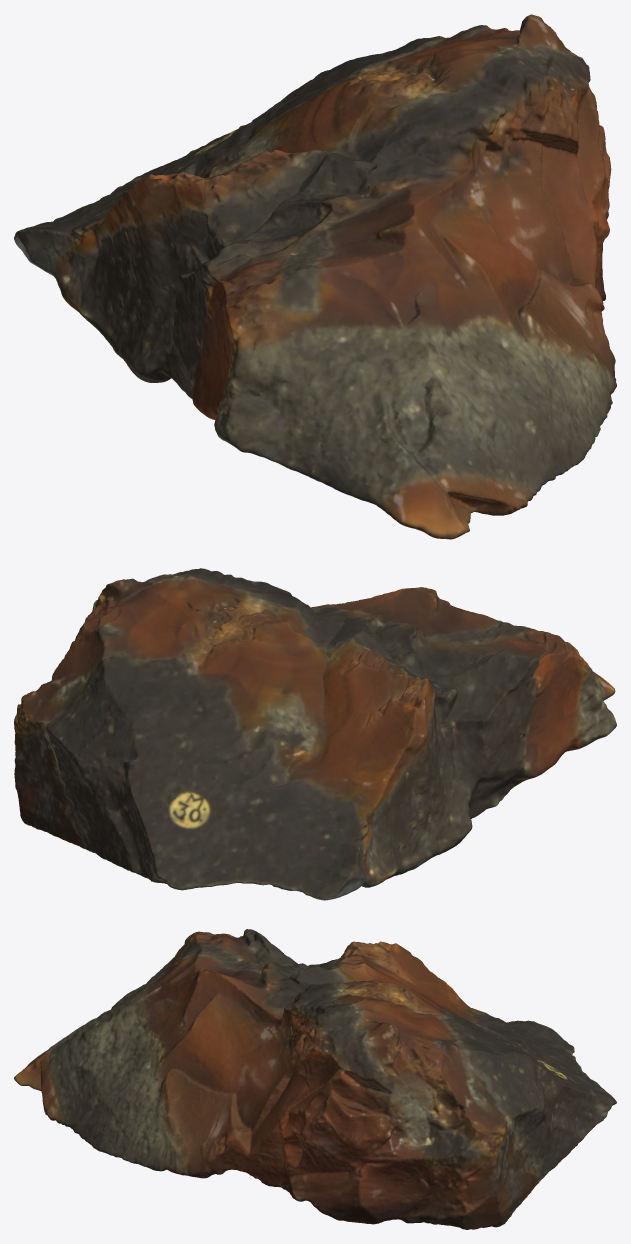
Rendered from red_opal.glb.
3 views of the same model, one above another, from view 1: azimuth 30°, elevation 25°; view 2: azimuth 150°, elevation 25°; view 3: azimuth 270°, elevation 25° (orthographic). The views are drawn at different scales.
Parts seen in each view (by area): view 1: Object_2; view 2: Object_2; view 3: Object_2.
Part boxes in pixels (x1,y1,x2,y2): Object_2: [14, 14, 616, 539]; Object_2: [14, 568, 616, 900]; Object_2: [14, 929, 616, 1229].
Bounding box in the file's own units: 0.1978 × 0.0936 × 0.2678.
1 material, 1 textured.
